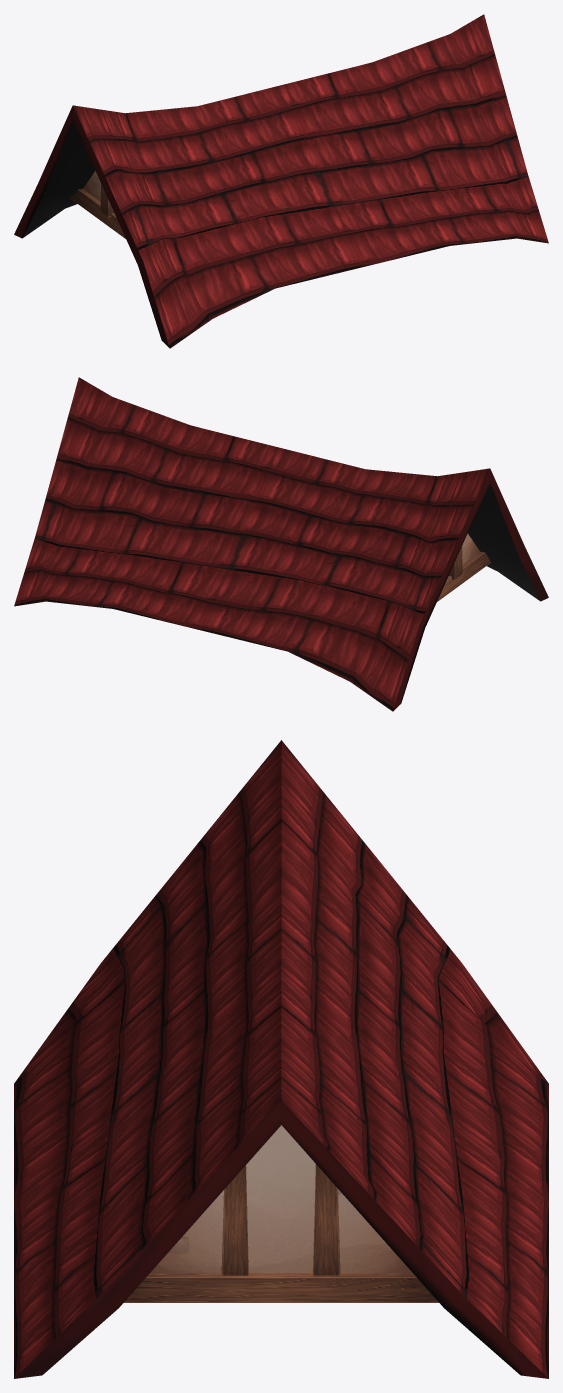
Rendered from roof2.fbx.
The picture shows the model from 3 angles, top to bottom: view 1: azimuth 30°, elevation 25°; view 2: azimuth 150°, elevation 25°; view 3: azimuth 270°, elevation 25°; orthographic projection. The views are drawn at different scales.
Parts seen in each view (by area): view 1: polySurface54; view 2: polySurface54; view 3: polySurface54.
Boxes of the visible parts, bbox=[...] form: polySurface54: bbox=[14, 14, 548, 348]; polySurface54: bbox=[14, 377, 548, 711]; polySurface54: bbox=[14, 740, 548, 1378].
Bounding box in the file's own units: 9.52 × 4.22 × 6.25.
